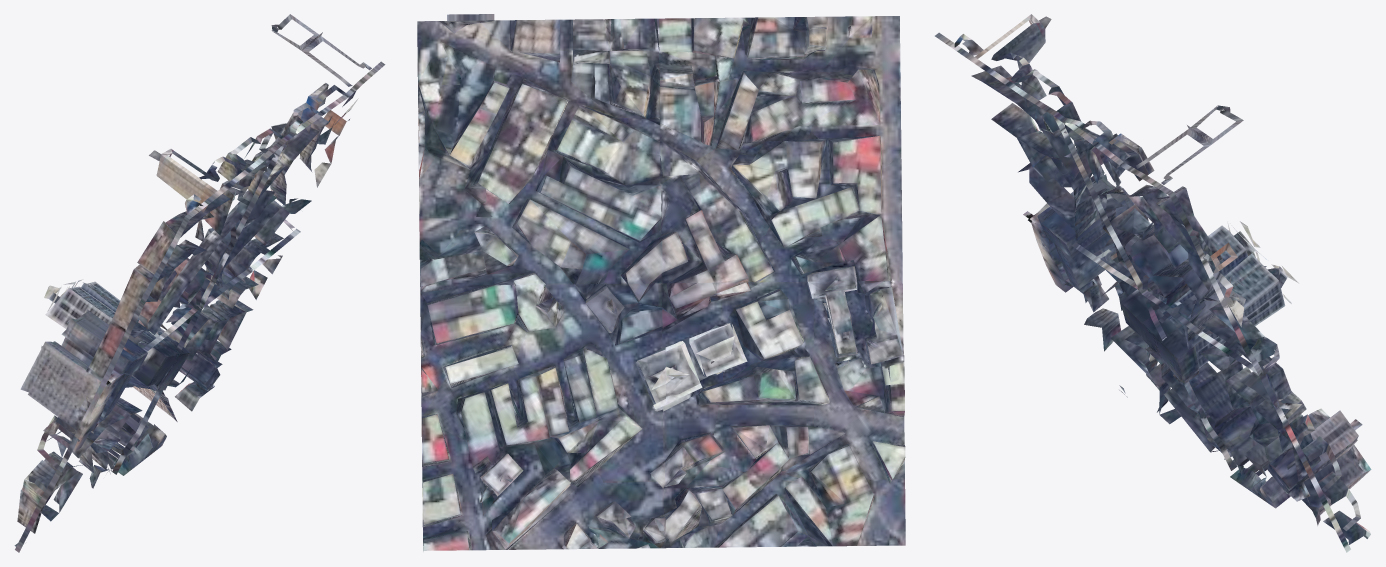
The picture shows the model from 3 angles, left to right: view 1: azimuth 30°, elevation 25°; view 2: azimuth 150°, elevation 25°; view 3: azimuth 270°, elevation 25°; orthographic projection. The views are drawn at different scales.
Size of the model in its own units: 305 by 308 by 271.
Materials: 2 (2 with a texture image).
